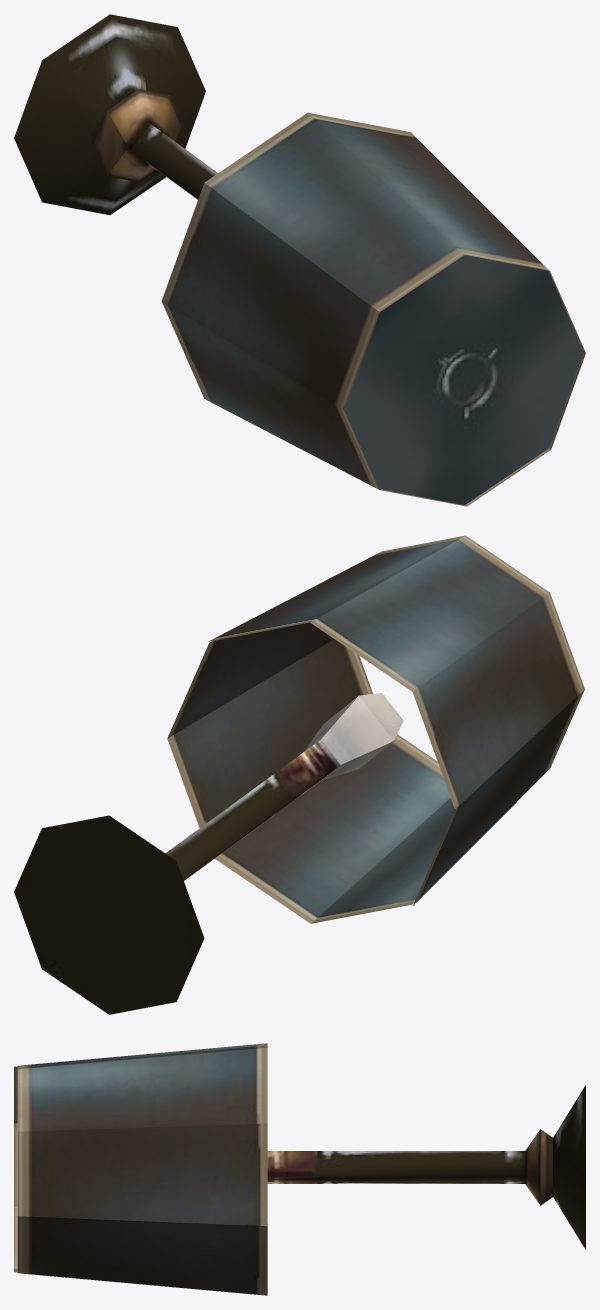
Rendered from light_lampdesk_off.glb.
3 renders of one model, top to bottom at view 1: azimuth 30°, elevation 25°; view 2: azimuth 150°, elevation 25°; view 3: azimuth 270°, elevation 25°, orthographic. The views are drawn at different scales.
Bounding box in the file's own units: 7.36 × 7.36 × 15.67.
Materials: 2 (2 with a texture image).
